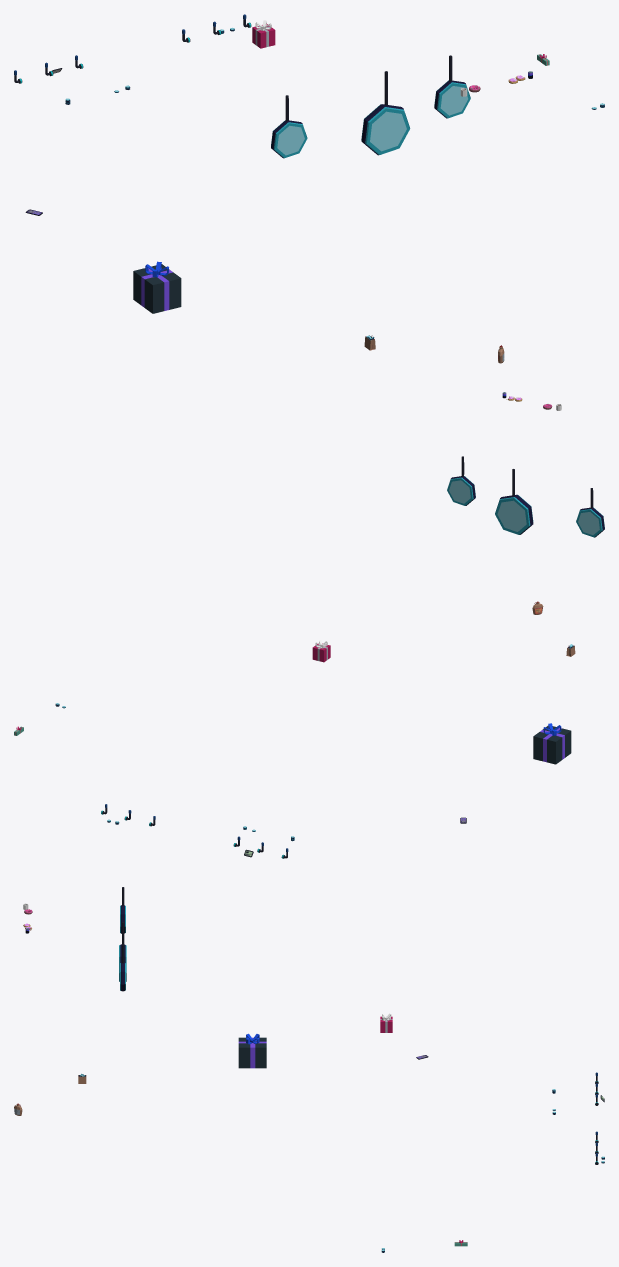
The model's file is INT_BucklePrince_Theftables.fbx.
3 views of the same model, one above another, from view 1: azimuth 30°, elevation 25°; view 2: azimuth 150°, elevation 25°; view 3: azimuth 270°, elevation 25° (orthographic). The views are drawn at different scales.
Parts seen in each view (by area): view 1: Gift_Lorge, Buckles.047, Buckles.048, Buckles.046, Gift_Med; view 2: Gift_Lorge, Buckles.047, Buckles.048, Buckles.046; view 3: Gift_Lorge.
Part boxes in pixels (bbox=[...]): Gift_Lorge: bbox=[133, 261, 181, 313]; Buckles.047: bbox=[361, 71, 410, 155]; Buckles.048: bbox=[271, 95, 307, 158]; Buckles.046: bbox=[434, 55, 470, 118]; Gift_Med: bbox=[252, 20, 275, 48]; Gift_Lorge: bbox=[533, 723, 571, 764]; Buckles.047: bbox=[495, 469, 533, 534]; Buckles.048: bbox=[576, 488, 604, 537]; Buckles.046: bbox=[447, 456, 475, 505]; Gift_Lorge: bbox=[238, 1033, 266, 1068].
Size of the model in its own units: 2853 by 1451 by 3669.
